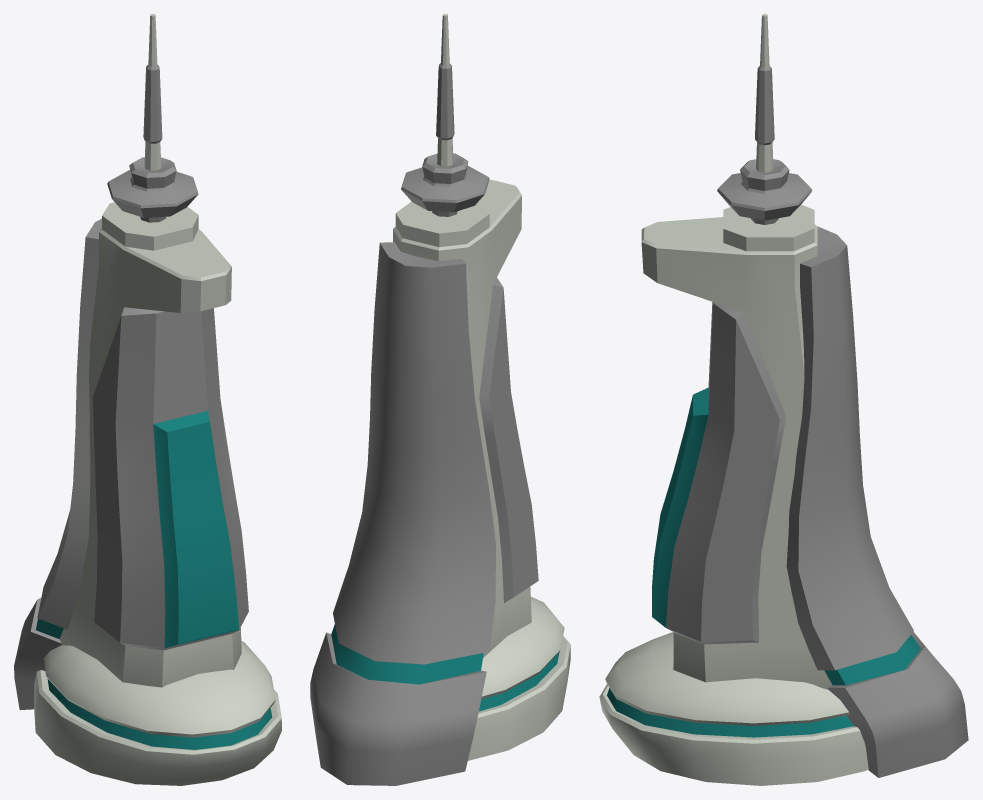
The model's file is SM_skyscraper_C.fbx.
3 renders of one model, left to right at view 1: azimuth 30°, elevation 25°; view 2: azimuth 150°, elevation 25°; view 3: azimuth 270°, elevation 25°, orthographic. The views are drawn at different scales.
Parts seen in each view (by area): view 1: pCube9; view 2: pCube9; view 3: pCube9.
Boxes of the visible parts, x1,y1,x2,y2 form: pCube9: (14,14,281,785); pCube9: (310,14,570,785); pCube9: (599,14,968,785).
Size of the model in its own units: 55.1 by 191 by 87.95.
